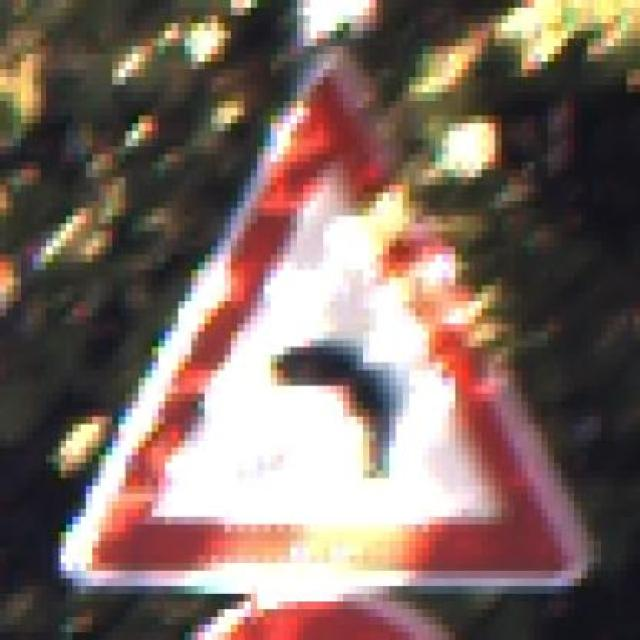Dangerous Left Curve Ahead: (52, 46, 594, 586)
